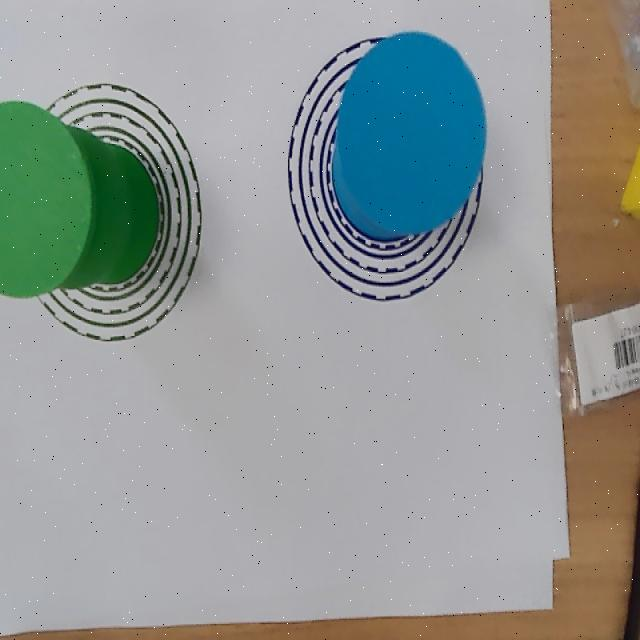b: (338, 32, 485, 233)
